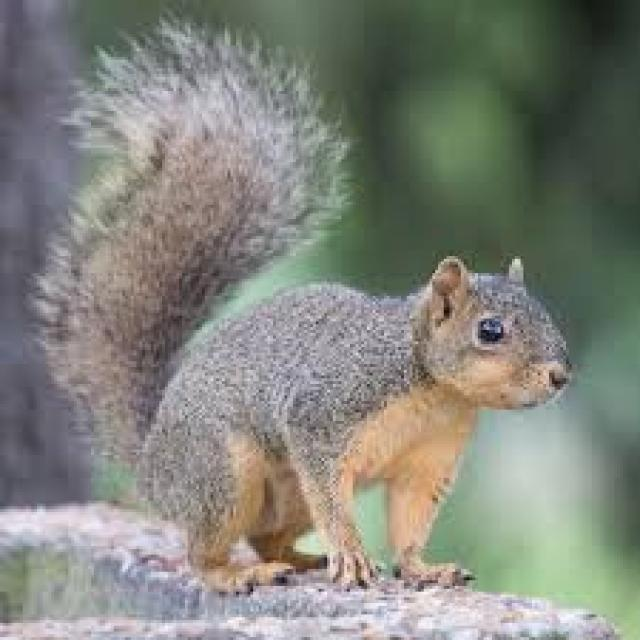Squirrel: (39, 25, 580, 590)
